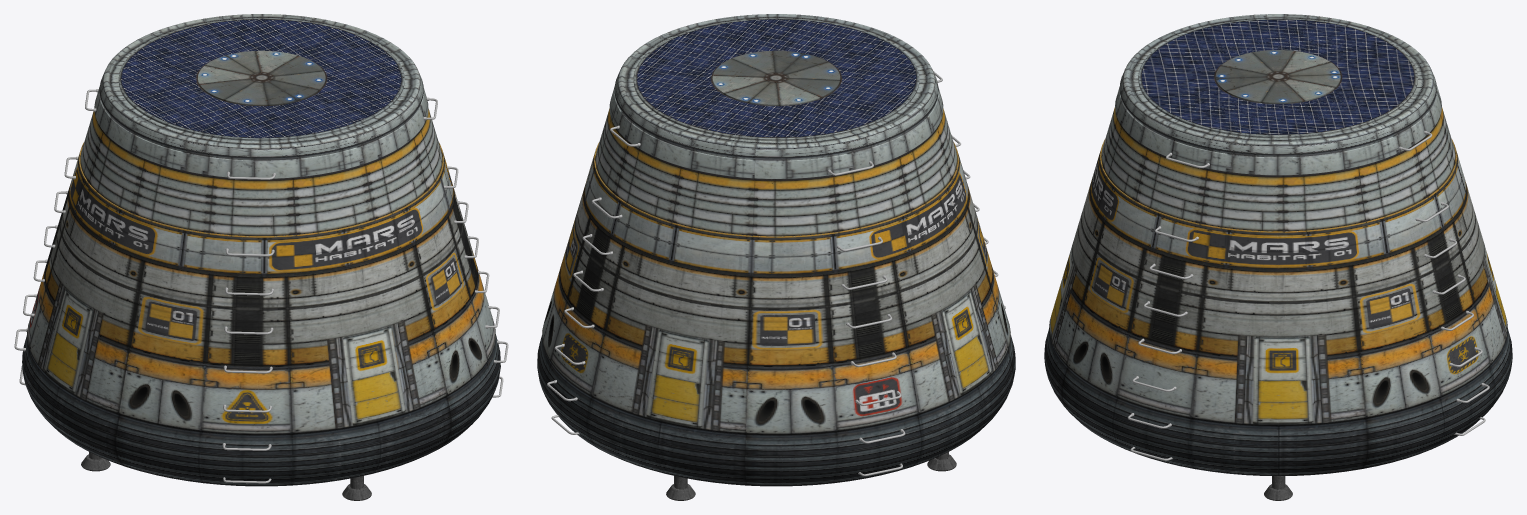
Rendered from space-lander.fbx.
3 views of the same model, side by side, from view 1: azimuth 30°, elevation 25°; view 2: azimuth 150°, elevation 25°; view 3: azimuth 270°, elevation 25° (orthographic). The views are drawn at different scales.
Visible parts, largest first — view 1: Pod; view 2: Pod; view 3: Pod, Leg_03.
Boxes of the visible parts, box(x1,y1,x2,y2) form: Pod: box(22, 14, 500, 486); Pod: box(537, 14, 1015, 486); Pod: box(1044, 14, 1512, 476); Leg_03: box(1264, 476, 1292, 500).
Size of the model in its own units: 1252 by 1252 by 1002.
Materials: 3 (2 with a texture image).
